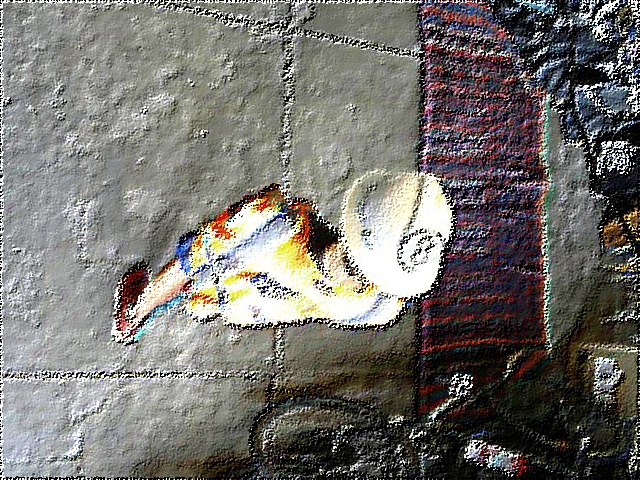eight: (398, 231, 447, 274)
